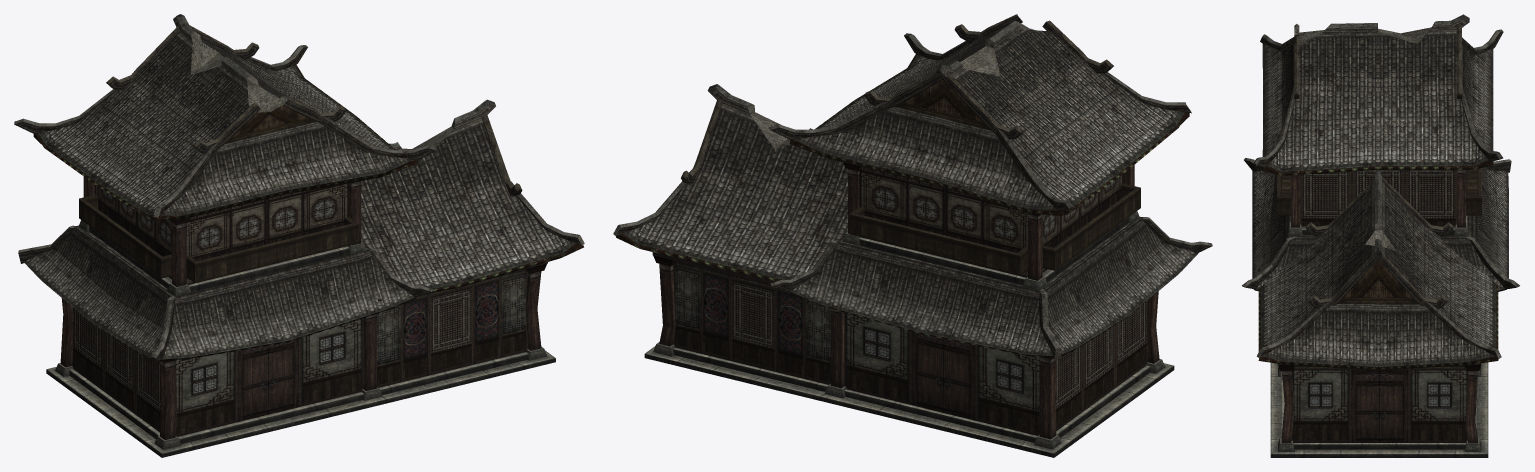
The model's file is ep-007-itemshop.fbx.
3 views of the same model, side by side, from view 1: azimuth 30°, elevation 25°; view 2: azimuth 150°, elevation 25°; view 3: azimuth 270°, elevation 25° (orthographic). The views are drawn at different scales.
Parts seen in each view (by area): view 1: ep-007-itemshop, ep-007-itemshop-02; view 2: ep-007-itemshop, ep-007-itemshop-02; view 3: ep-007-itemshop, ep-007-itemshop-02.
Part boxes in pixels (box(x1,y1,x2,y2)): ep-007-itemshop: box(14, 14, 584, 361); ep-007-itemshop-02: box(46, 177, 555, 457); ep-007-itemshop: box(613, 14, 1212, 359); ep-007-itemshop-02: box(644, 162, 1174, 457); ep-007-itemshop: box(1242, 14, 1519, 370); ep-007-itemshop-02: box(1270, 168, 1488, 457).
Bounding box in the file's own units: 17.97 × 13.13 × 10.41.
